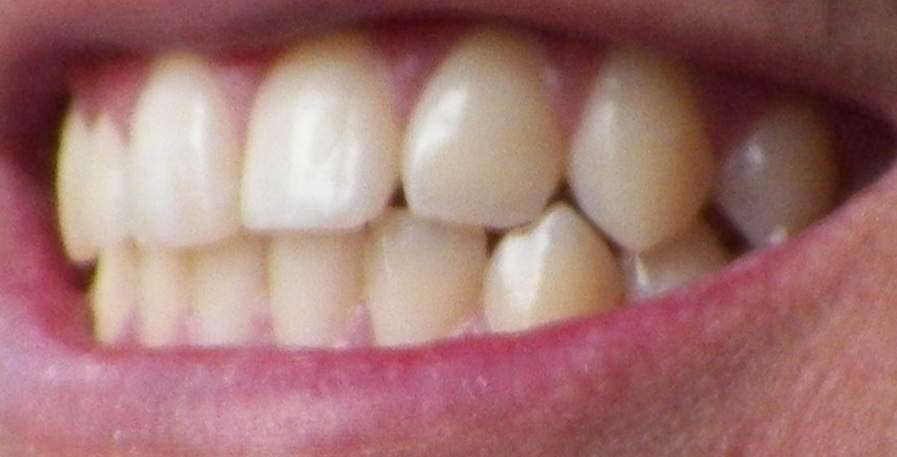boca: (37, 58, 836, 362)
